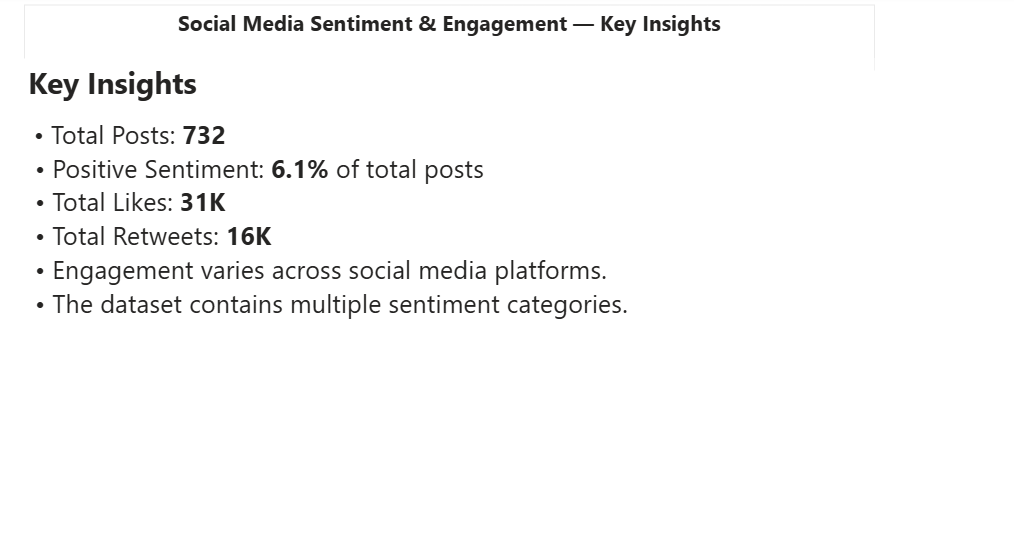

Layout of this report page (visuals, bound fields, positions):
{"tool":"powerbi","page":{"name":"Page 2","canvas":[1280,720],"ordinal":1},"visuals":[{"type":"textbox","box":[30.2,13.2,1071.5,83.2],"z":0},{"type":"textbox","box":[30.2,81.3,1071.5,370.4],"z":1000}]}

Visuals, with their boxes in screenshot pixels (x1, y1, x2, y2), scaled from the page's 1280x720 canvas onto the 1014x558 screenshot:
textbox: bbox=[24, 10, 873, 75]
textbox: bbox=[24, 63, 873, 350]
